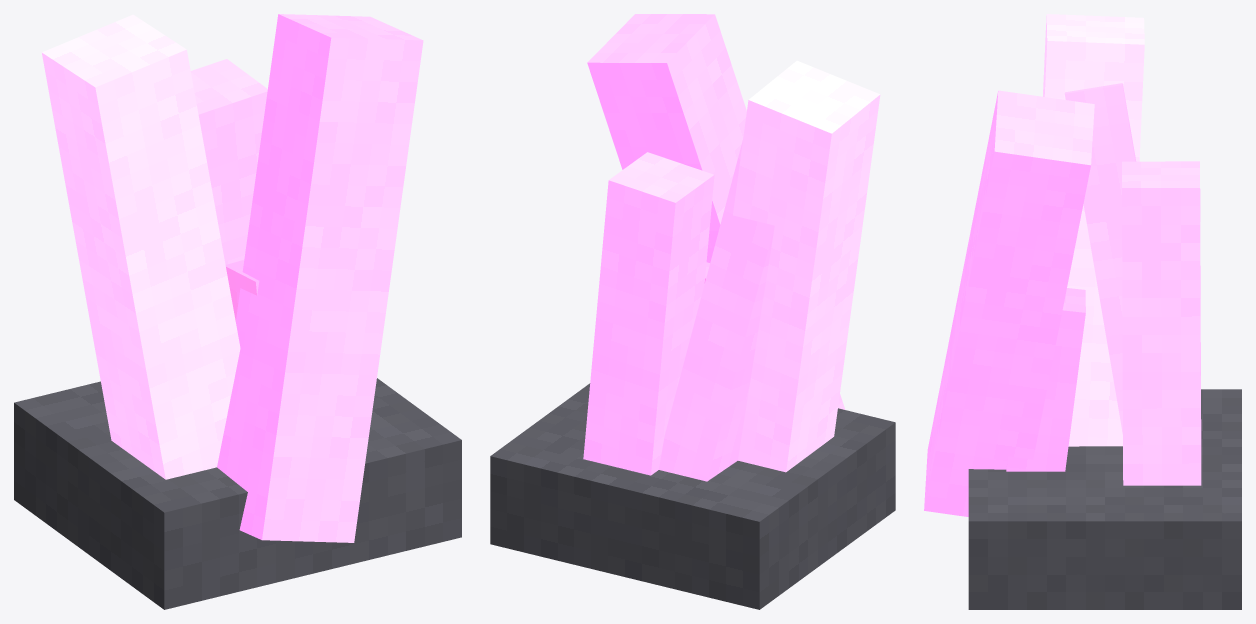
File: crystal_pink.glb
3 renders of one model, left to right at view 1: azimuth 30°, elevation 25°; view 2: azimuth 150°, elevation 25°; view 3: azimuth 270°, elevation 25°, orthographic. The views are drawn at different scales.
Parts seen in each view (by area): view 1: Rock; view 2: Rock; view 3: Rock.
Boxes of the visible parts, box(x1,y1,x2,y2) form: Rock: box(14, 14, 461, 609); Rock: box(490, 14, 895, 609); Rock: box(924, 14, 1241, 609).
Bounding box in the file's own units: 0.8701 × 1.32 × 0.8139.
Materials: 6 (6 with a texture image).
